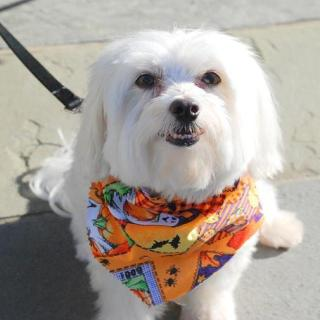dog: (76, 25, 282, 201)
nose: (164, 97, 203, 124)
